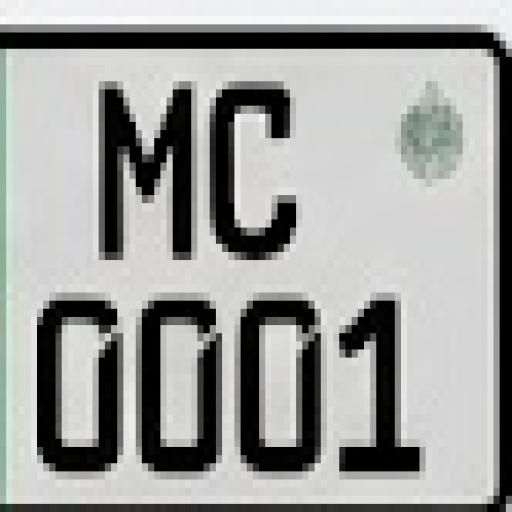0: (23, 283, 136, 483), (239, 287, 325, 488), (142, 298, 234, 480)
1: (338, 299, 426, 477)
C: (203, 72, 307, 262)
M: (95, 72, 197, 276)
